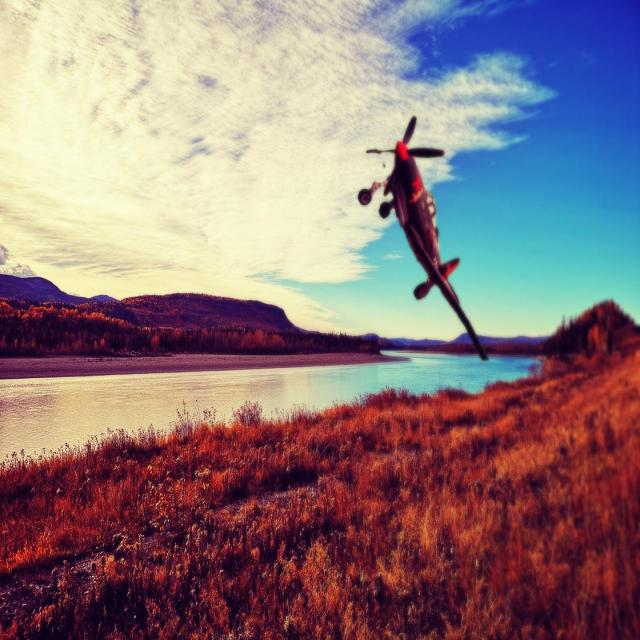airplane: (357, 114, 488, 361)
